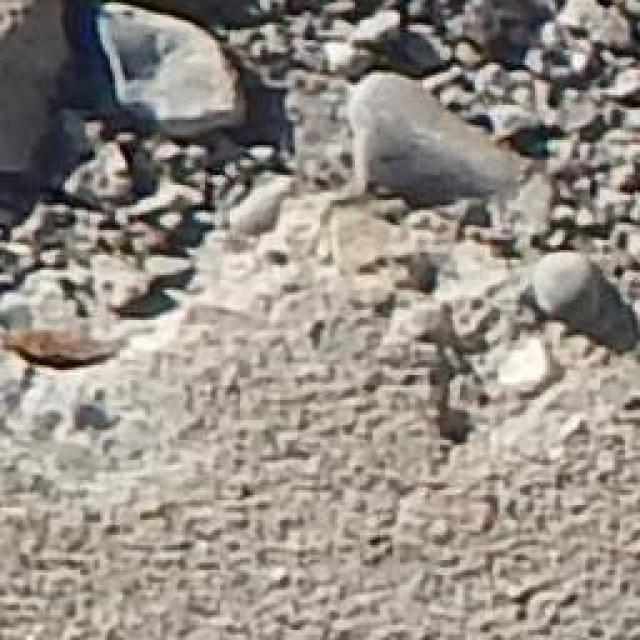concrete-crack: (0, 0, 640, 455)
